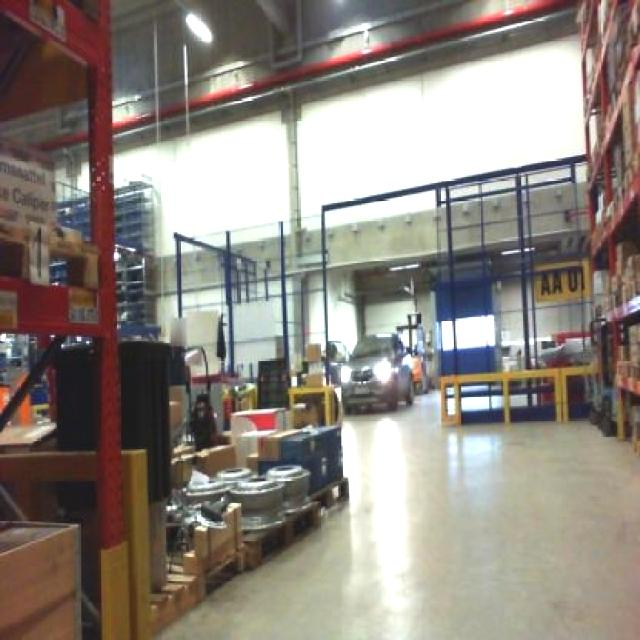pallets: (0, 520, 77, 637)
